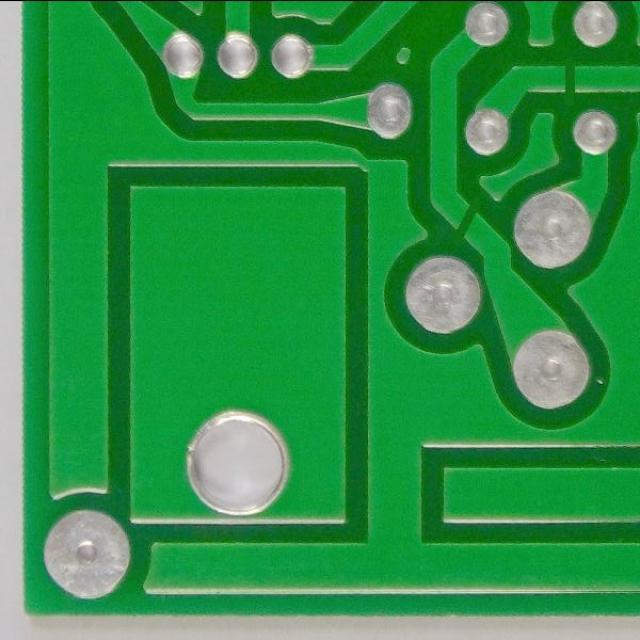Open_Circuit: (549, 46, 593, 113), (444, 194, 489, 249)
